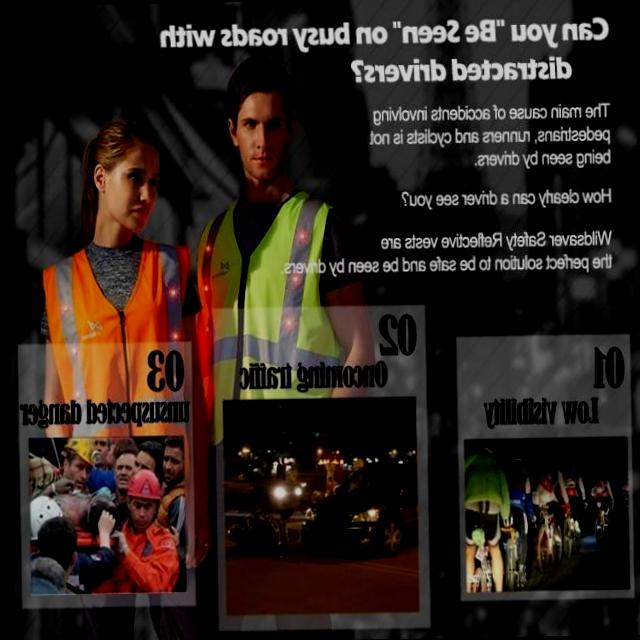helmet: (124, 468, 162, 512), (58, 434, 98, 468)
vest: (202, 191, 340, 398), (49, 245, 187, 344)
